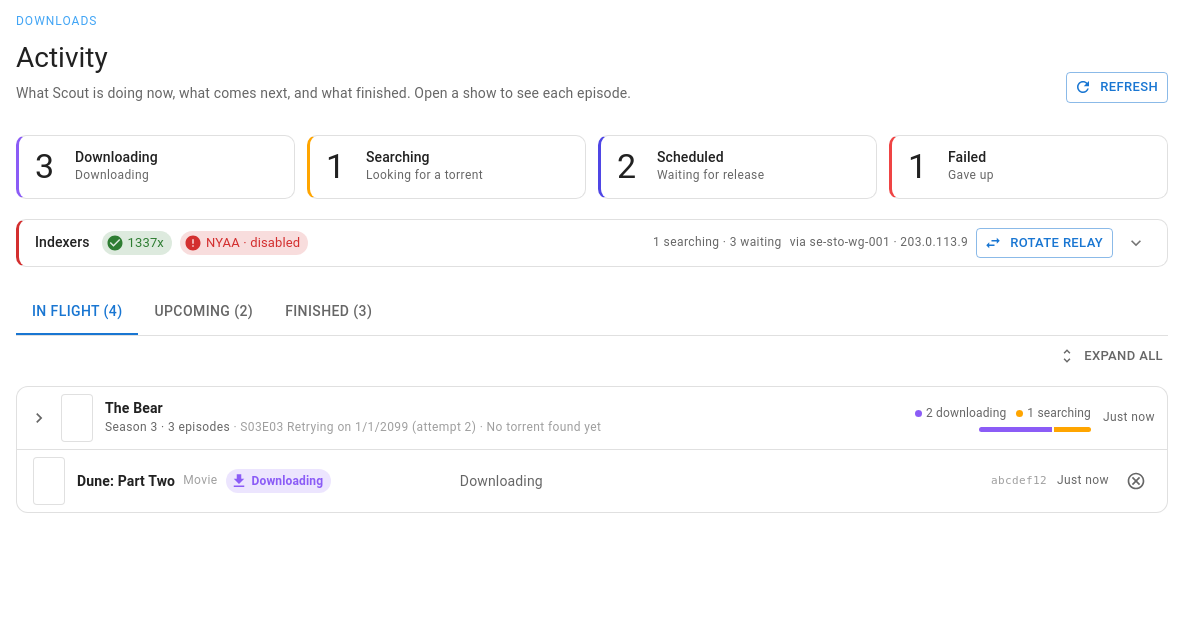
Scenario: Activity page › keeps the indexer strip to one line until expanded
Expected: the text "NYAA · disabled" is shown, [198,233,308,253]
Expected: the text "via se-sto-wg-001 · 203.0.113.9" is shown, [790,233,968,253]
Click the button named "Show indexer details" at (1136, 243), box [1121,228,1151,258]
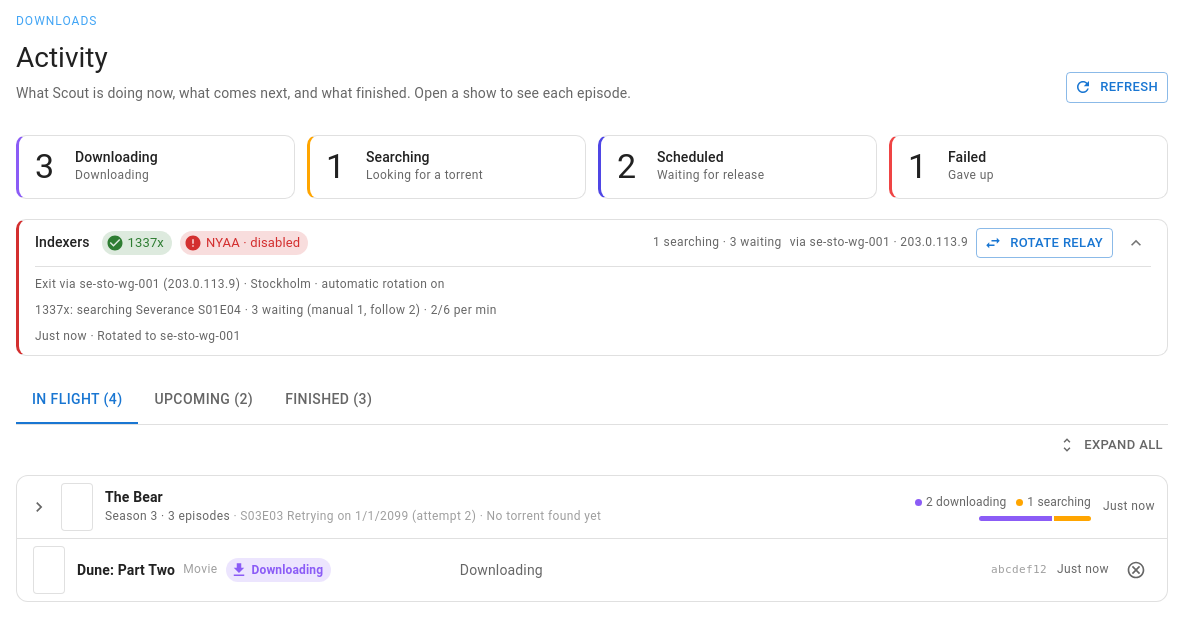
Expected: the text "Stockholm" is shown, [35,277,445,291]
Expected: the text "Just now · Rotated to se-sto-wg-001" is shown, [35,329,241,343]
Expected: the text "1337x: searching Severance S01E04 · 3 waiting (manual 1, follow 2) · 2/6 per min" is shown, [35,303,497,317]
